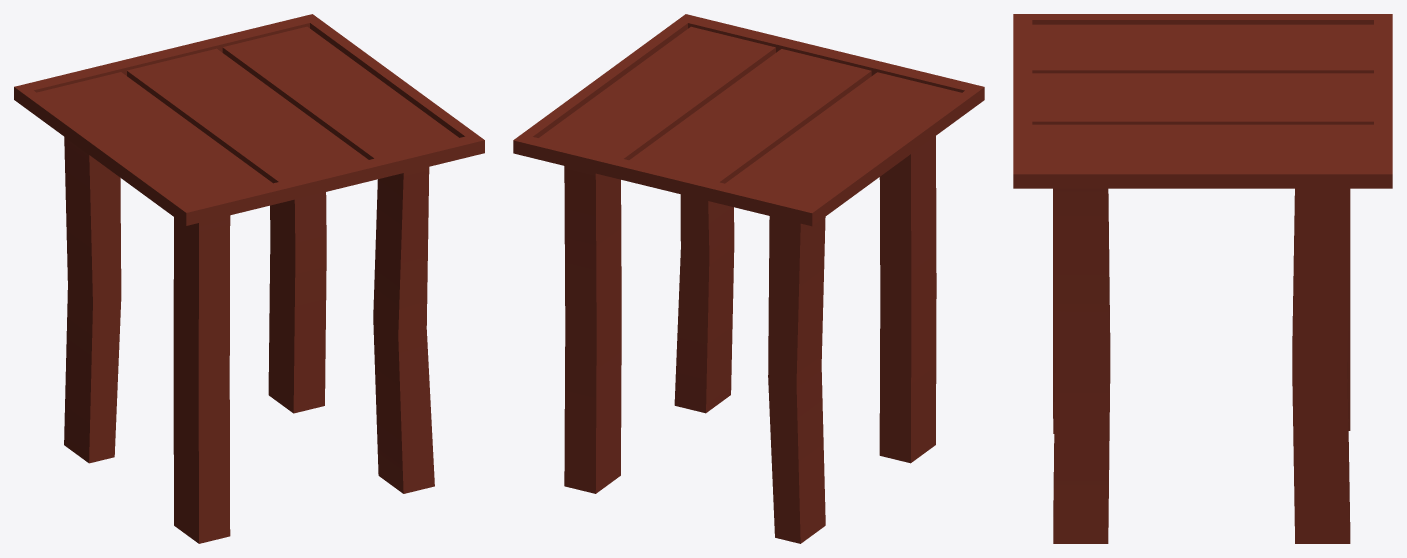
Rendered from Platform.FBX.
3 renders of one model, left to right at view 1: azimuth 30°, elevation 25°; view 2: azimuth 150°, elevation 25°; view 3: azimuth 270°, elevation 25°, orthographic. The views are drawn at different scales.
Parts seen in each view (by area): view 1: Platform; view 2: Platform; view 3: Platform.
Part boxes in pixels (x1,y1,x2,y2): Platform: (14,14,484,543); Platform: (513,14,984,543); Platform: (1013,14,1392,543).
Size of the model in its own units: 12 by 13.51 by 12.
